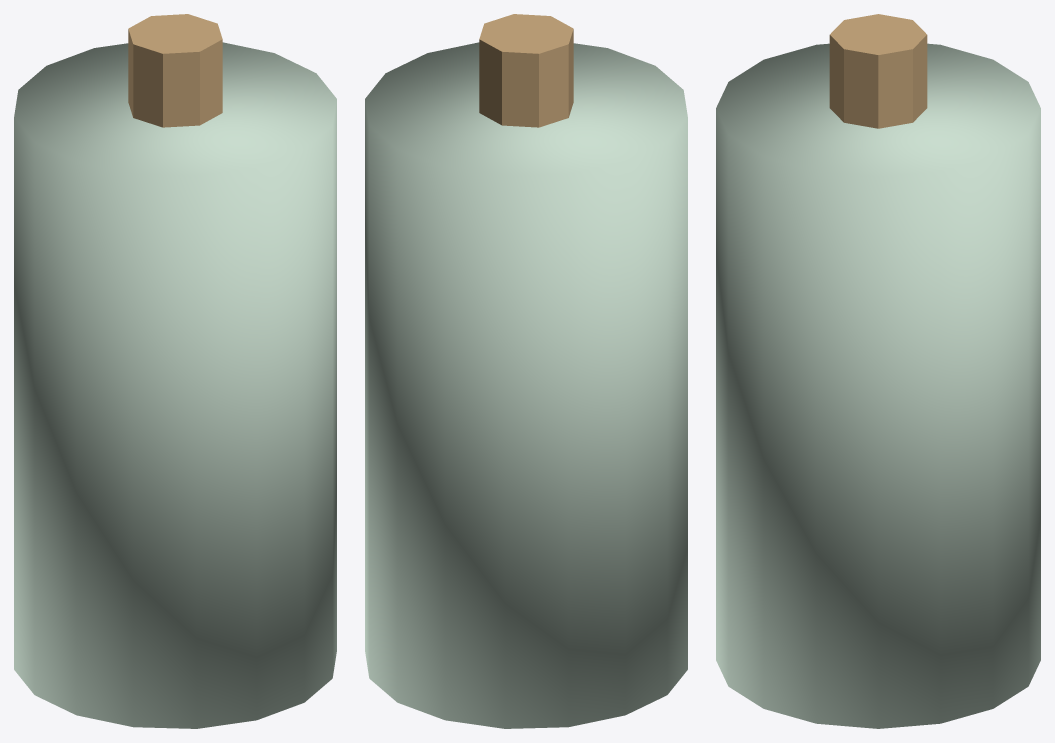
The model's file is glass_bottle.out_bottle_rt.glb.
The picture shows the model from 3 angles, left to right: view 1: azimuth 30°, elevation 25°; view 2: azimuth 150°, elevation 25°; view 3: azimuth 270°, elevation 25°; orthographic projection.
Parts seen in each view (by area): view 1: Bottle, Cork; view 2: Bottle, Cork; view 3: Bottle, Cork.
Part boxes in pixels (box(x1,y1,x2,y2)): Bottle: box(14, 42, 336, 728); Cork: box(128, 14, 222, 127); Bottle: box(365, 42, 687, 728); Cork: box(479, 14, 573, 127); Bottle: box(716, 43, 1040, 728); Cork: box(829, 14, 927, 128).
Bounding box in the file's own units: 0.8 × 1.7 × 0.8.
